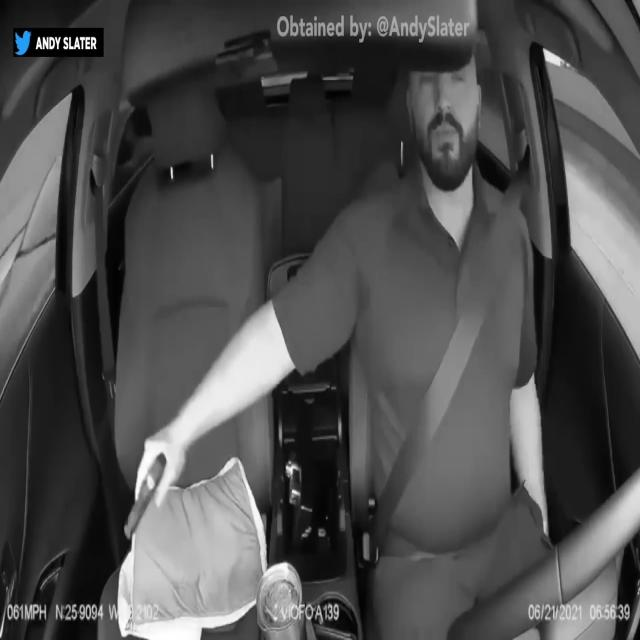senjata_api: (121, 450, 168, 542)
